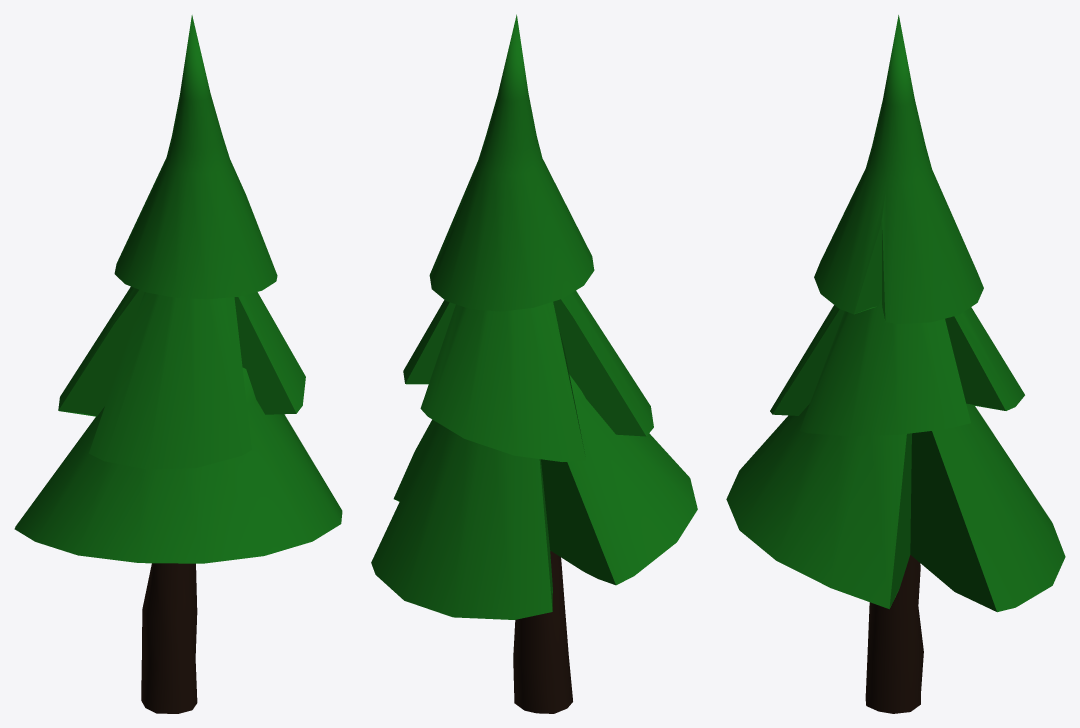
The model's file is WF_PCGTreeMesh.001.obj.
3 views of the same model, side by side, from view 1: azimuth 30°, elevation 25°; view 2: azimuth 150°, elevation 25°; view 3: azimuth 270°, elevation 25° (orthographic). The views are drawn at different scales.
Parts seen in each view (by area): view 1: Tree.013; view 2: Tree.013; view 3: Tree.013.
Boxes of the visible parts, x1,y1,x2,y2 form: Tree.013: (14, 15, 342, 713); Tree.013: (371, 14, 697, 713); Tree.013: (726, 15, 1065, 713).
Bounding box in the file's own units: 0.5977 × 1.36 × 0.5986.
